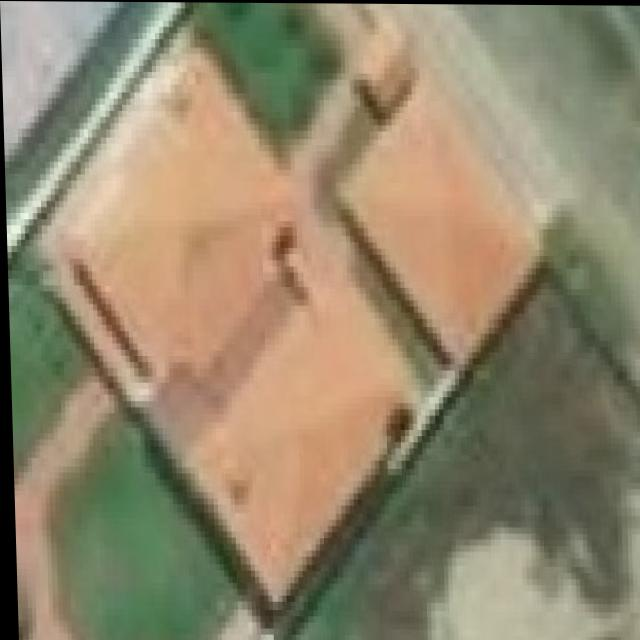Batiment: (47, 48, 408, 596), (351, 36, 536, 362)
